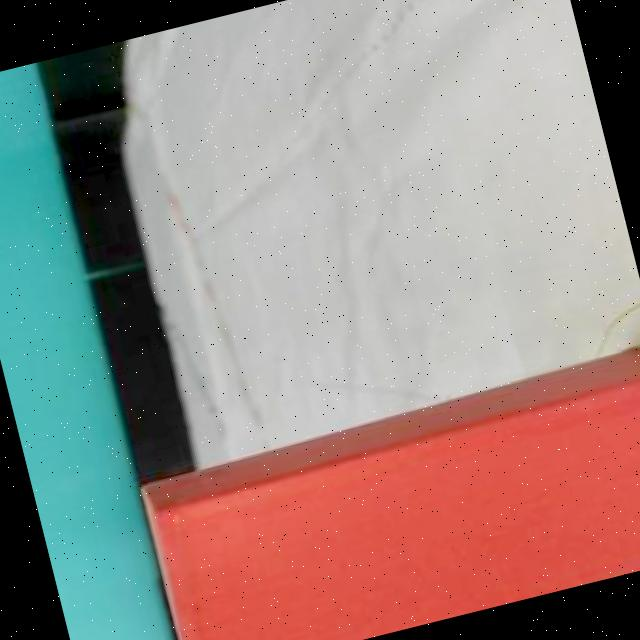redbox: (133, 341, 640, 640)
